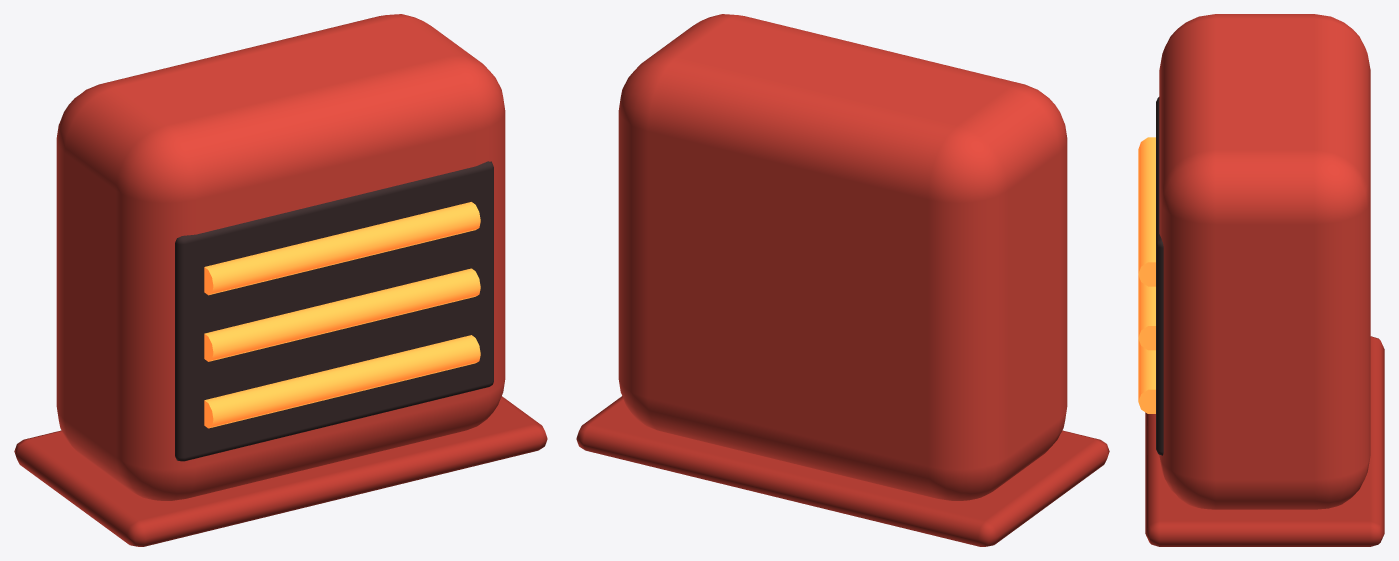
File: lamp-heater.glb
3 views of the same model, side by side, from view 1: azimuth 30°, elevation 25°; view 2: azimuth 150°, elevation 25°; view 3: azimuth 270°, elevation 25° (orthographic). The views are drawn at different scales.
Size of the model in its own units: 0.66 by 0.58 by 0.35.
